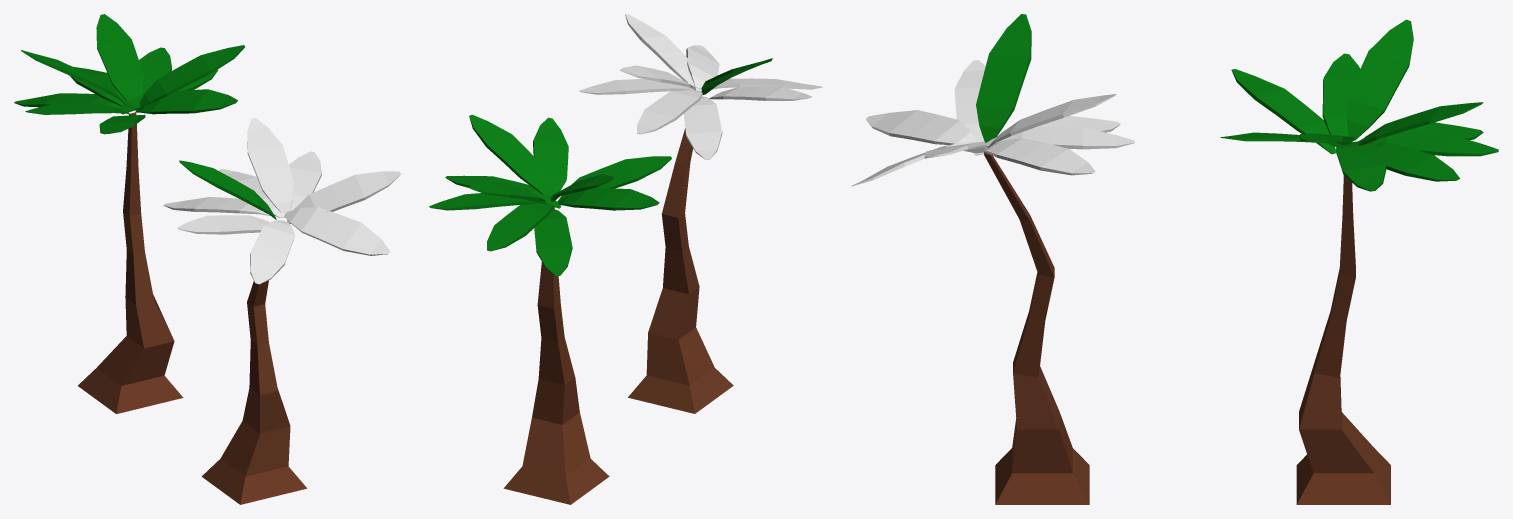
Rendered from trees.fbx.
3 views of the same model, side by side, from view 1: azimuth 30°, elevation 25°; view 2: azimuth 150°, elevation 25°; view 3: azimuth 270°, elevation 25° (orthographic). The views are drawn at different scales.
Visible parts, largest first — view 1: Cube.001, Cube, Cube.018, Cube.014, Cube.009, Cube.015, Cube.008, Cube.017, Cube.005, Cube.016, Cube.013, Cube.019 (+9 smaller); view 2: Cube, Cube.001, Cube.008, Cube.011, Cube.005, Cube.012, Cube.007, Cube.002, Cube.020, Cube.015, Cube.006, Cube.019 (+9 smaller); view 3: Cube, Cube.001, Cube.010, Cube.013, Cube.017, Cube.006, Cube.019, Cube.007, Cube.020, Cube.003, Cube.002, Cube.004 (+5 smaller).
Boxes of the visible parts, x1=… form: Cube.001: x1=78, y1=112, x2=183, y2=413; Cube: x1=202, y1=280, x2=306, y2=504; Cube.018: x1=284, y1=207, x2=389, y2=255; Cube.014: x1=247, y1=118, x2=294, y2=214; Cube.009: x1=96, y1=14, x2=144, y2=100; Cube.015: x1=287, y1=171, x2=400, y2=223; Cube.008: x1=139, y1=45, x2=244, y2=109; Cube.017: x1=250, y1=220, x2=294, y2=284; Cube.005: x1=135, y1=89, x2=237, y2=114; Cube.016: x1=177, y1=215, x2=269, y2=234; Cube.013: x1=179, y1=160, x2=276, y2=219; Cube.019: x1=289, y1=151, x2=321, y2=210; Cube: x1=628, y1=128, x2=733, y2=413; Cube.001: x1=503, y1=207, x2=609, y2=504; Cube.008: x1=469, y1=114, x2=551, y2=195; Cube.011: x1=534, y1=209, x2=572, y2=276; Cube.005: x1=533, y1=117, x2=568, y2=195; Cube.012: x1=684, y1=96, x2=722, y2=159; Cube.007: x1=558, y1=188, x2=659, y2=210; Cube.002: x1=487, y1=203, x2=552, y2=251; Cube.020: x1=637, y1=90, x2=702, y2=134; Cube.015: x1=625, y1=14, x2=700, y2=90; Cube.006: x1=557, y1=156, x2=671, y2=205; Cube.019: x1=579, y1=79, x2=692, y2=94; Cube: x1=983, y1=151, x2=1089, y2=504; Cube.001: x1=1296, y1=175, x2=1390, y2=504; Cube.010: x1=1346, y1=19, x2=1413, y2=140; Cube.013: x1=976, y1=14, x2=1031, y2=142; Cube.017: x1=866, y1=110, x2=977, y2=144; Cube.006: x1=1231, y1=69, x2=1335, y2=154; Cube.019: x1=982, y1=138, x2=1095, y2=175; Cube.007: x1=1322, y1=53, x2=1360, y2=147; Cube.020: x1=985, y1=127, x2=1134, y2=149; Cube.003: x1=1376, y1=142, x2=1459, y2=181; Cube.002: x1=1358, y1=132, x2=1498, y2=156; Cube.004: x1=1335, y1=141, x2=1386, y2=191.
Bounding box in the file's own units: 943 × 1537 × 2136.
